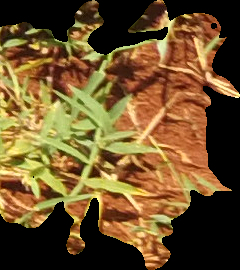grass: (1, 1, 239, 268)
